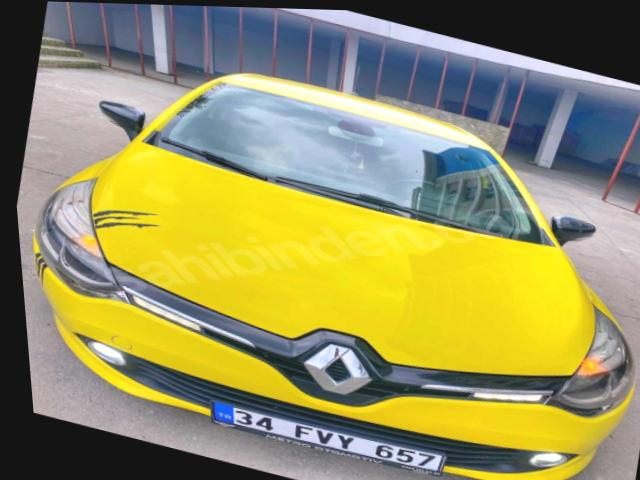plaka: (211, 401, 446, 474)
